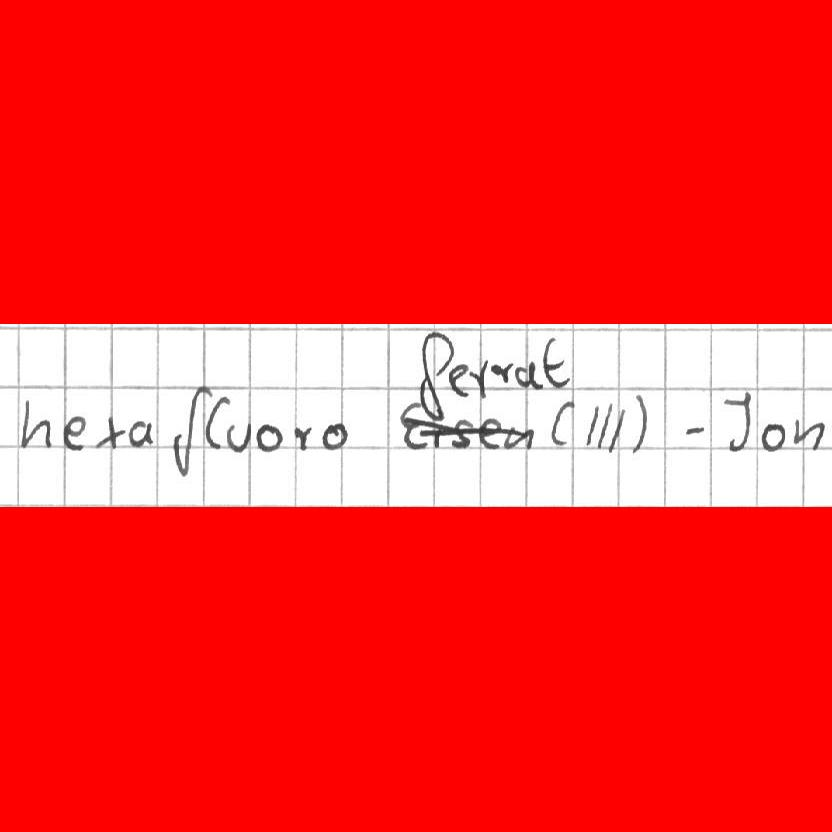Char: (170, 387, 208, 475), (417, 336, 452, 414), (721, 388, 753, 452), (19, 395, 54, 451), (201, 394, 230, 453), (397, 401, 428, 450), (541, 334, 568, 388), (548, 398, 574, 449), (631, 394, 651, 452), (791, 416, 823, 451), (62, 413, 87, 452), (95, 414, 121, 451), (478, 415, 504, 452), (607, 407, 626, 454), (467, 359, 489, 398), (128, 418, 154, 450), (255, 422, 282, 452), (585, 399, 600, 453), (446, 363, 469, 398), (450, 417, 473, 451), (321, 421, 347, 451), (503, 425, 534, 450), (513, 360, 538, 390), (226, 421, 249, 453), (761, 422, 786, 451), (419, 428, 449, 449), (293, 424, 313, 450), (490, 362, 514, 382), (680, 421, 707, 438)
